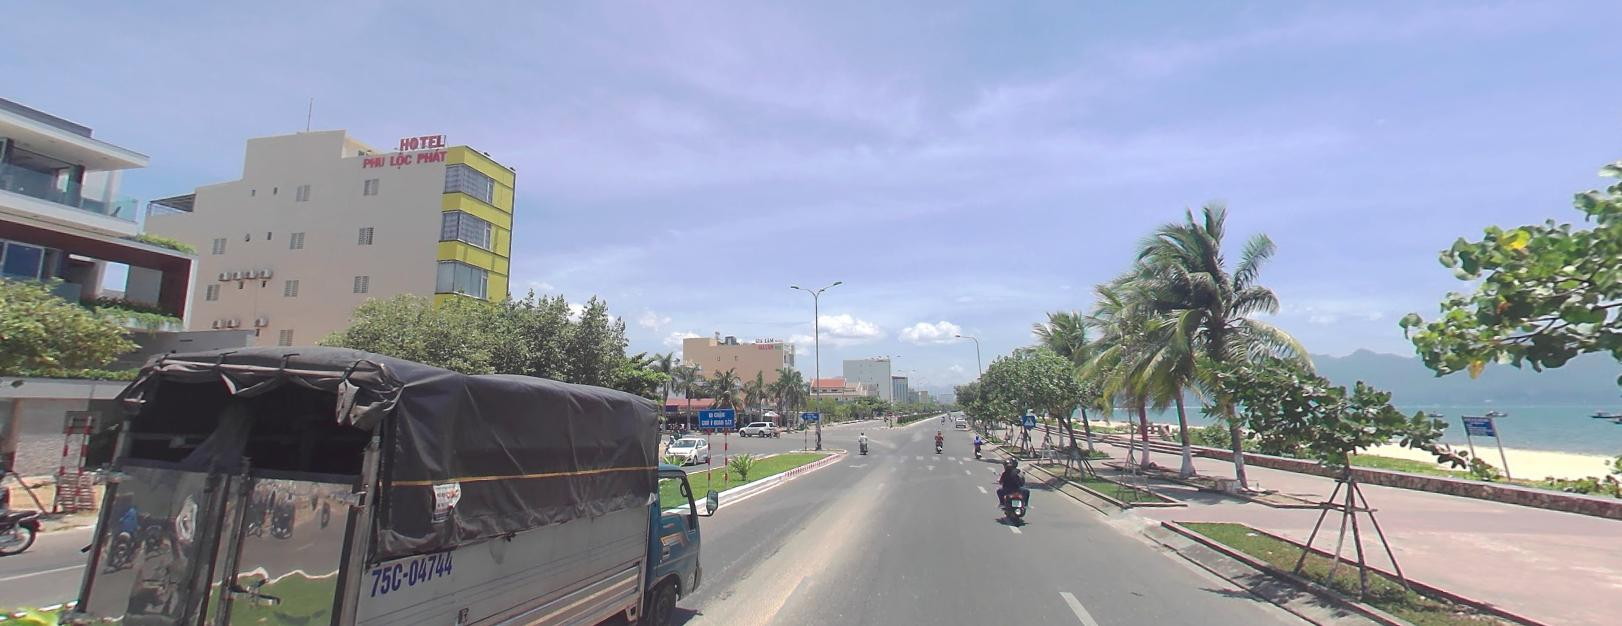Cam nguoc chieu: (887, 410, 891, 414)
